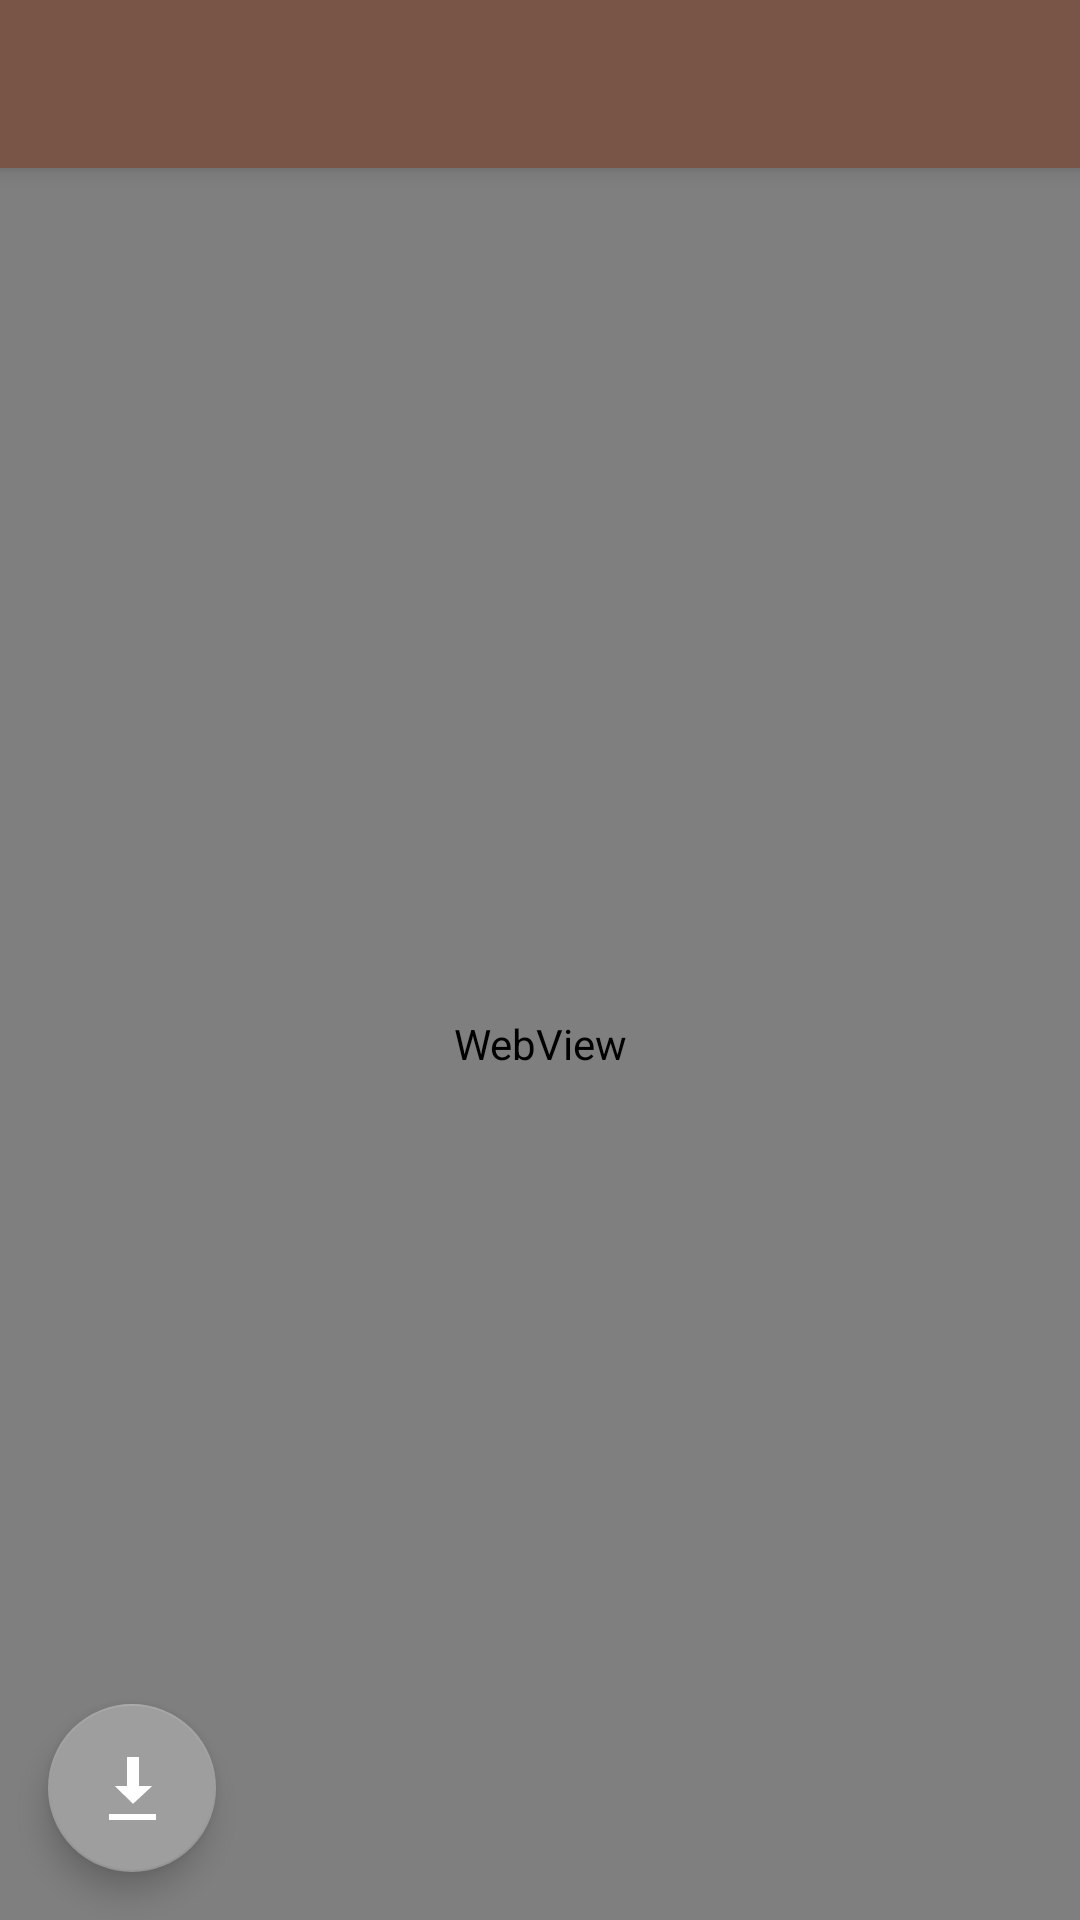

Icon click points for this 1080 × 1920 phone screenshot, format point (x, y):
download done: point (132, 1788)
